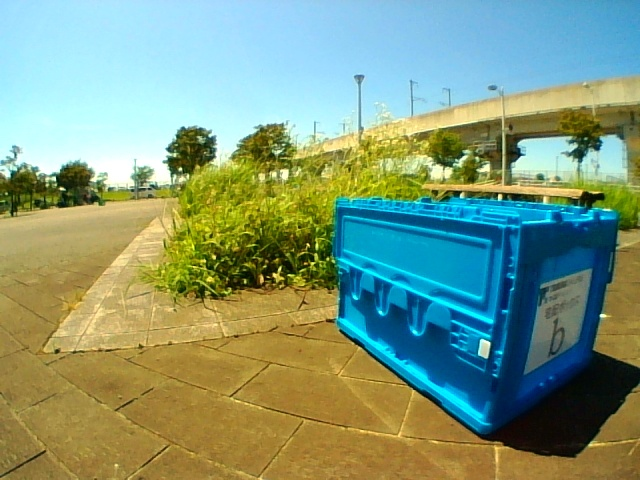blue_box: (339, 206, 593, 369)
tag_b: (541, 285, 570, 353)
